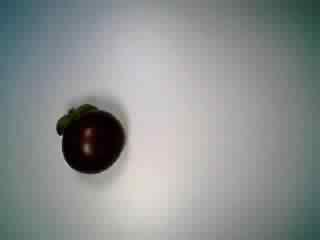mangosteen: (51, 102, 129, 173)
